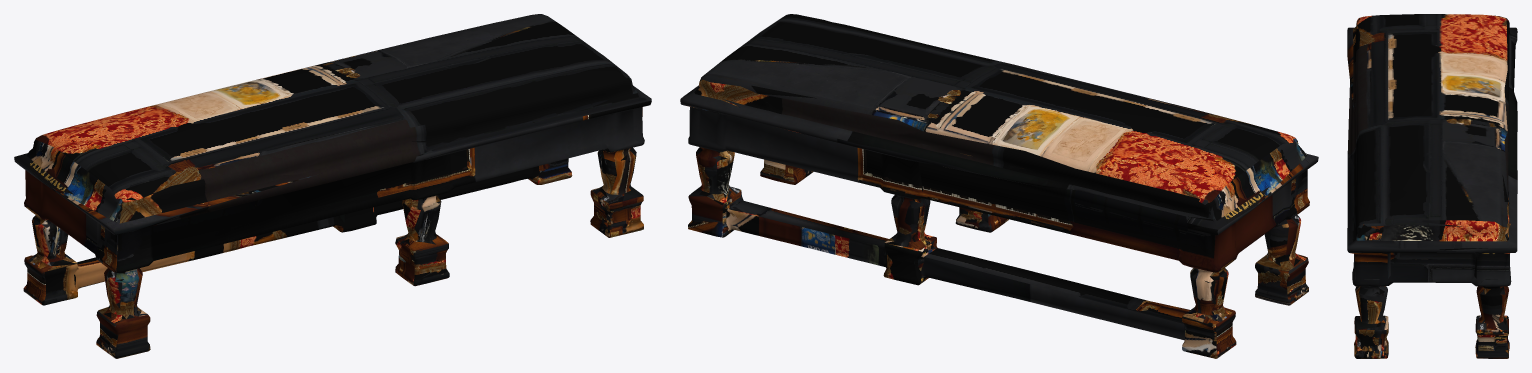
File: table-vitrine_baked.glb
The picture shows the model from 3 angles, left to right: view 1: azimuth 30°, elevation 25°; view 2: azimuth 150°, elevation 25°; view 3: azimuth 270°, elevation 25°; orthographic projection. The views are drawn at different scales.
Visible parts, largest first — view 1: Mesh1.0; view 2: Mesh1.0; view 3: Mesh1.0.
Part boxes in pixels (bbox=[...]): Mesh1.0: bbox=[14, 14, 651, 358]; Mesh1.0: bbox=[680, 14, 1318, 358]; Mesh1.0: bbox=[1347, 14, 1517, 358].
Size of the model in its own units: 0.9408 by 0.2842 by 0.3072.
Materials: 1 (1 with a texture image).
